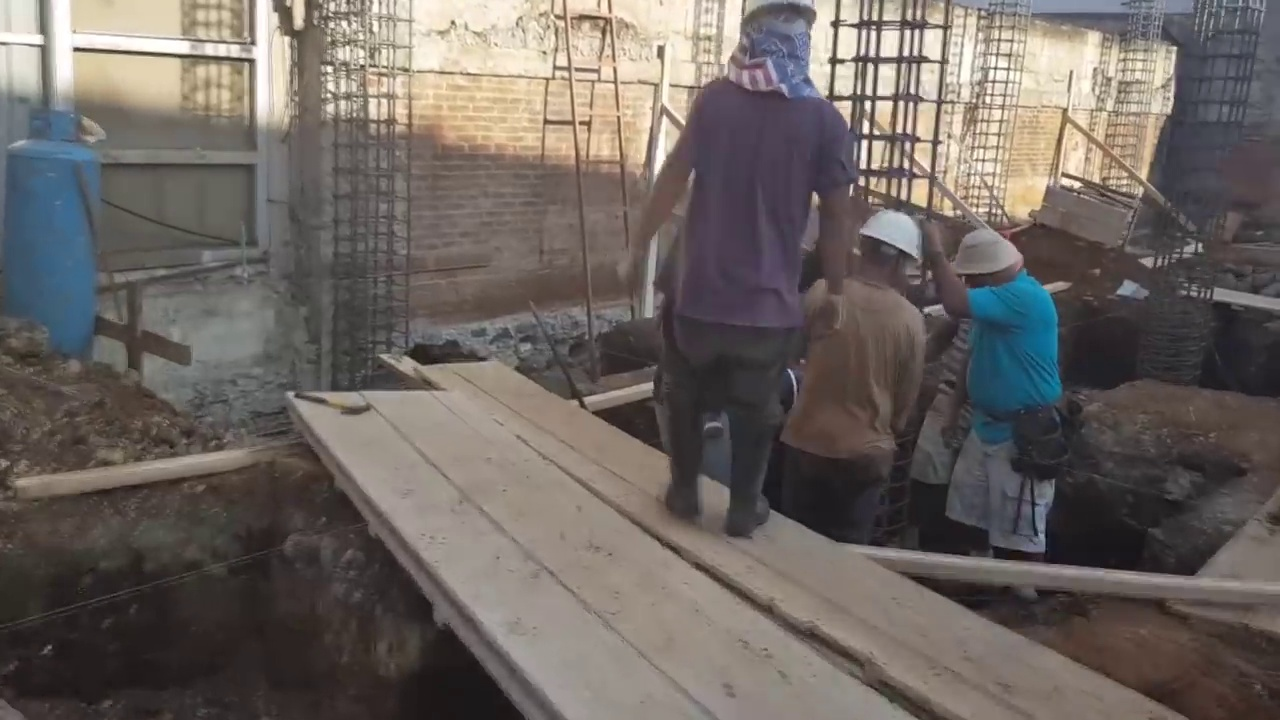helmet: (857, 211, 927, 262)
helmet-off: (721, 0, 826, 98), (957, 226, 1032, 293)
helmet-on: (857, 211, 938, 295)
person: (616, 0, 855, 547), (778, 207, 938, 550), (937, 206, 1071, 594), (903, 316, 979, 546)
